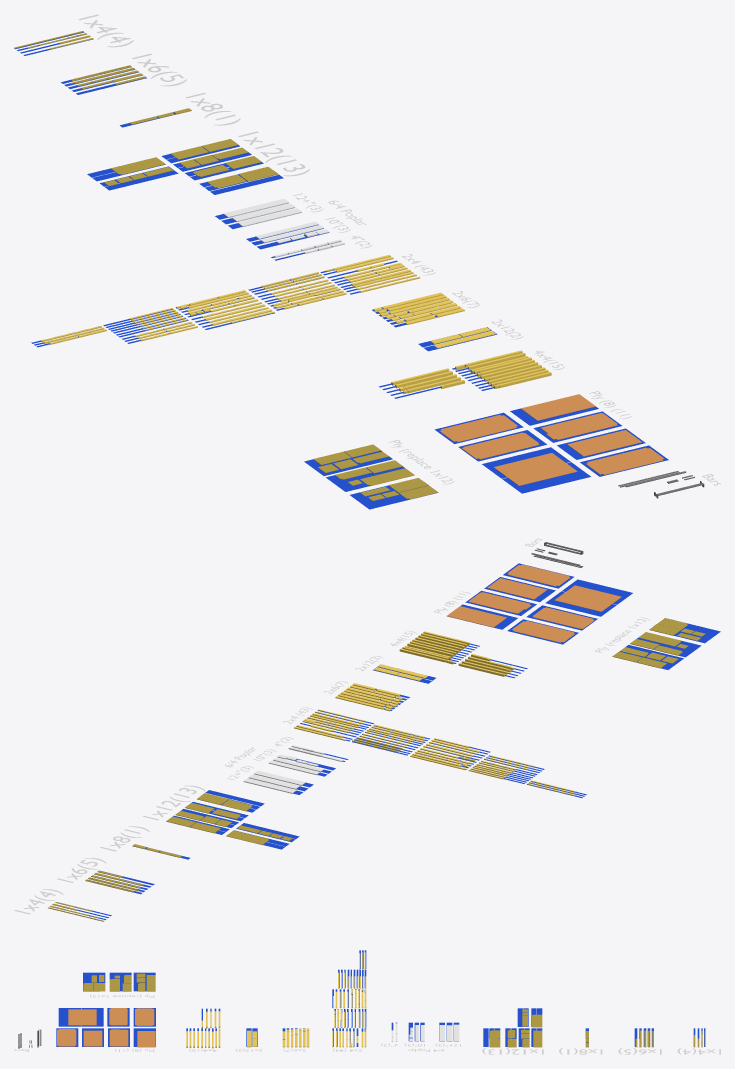
File: bunks-wood.glb
The picture shows the model from 3 angles, top to bottom: view 1: azimuth 30°, elevation 25°; view 2: azimuth 150°, elevation 25°; view 3: azimuth 270°, elevation 25°; orthographic projection. The views are drawn at different scales.
Visible parts, largest first — view 1: queen-platform, twin-bottom-platform, upper-bottom-platform, twin-platform, upper-platform, platform-twin-xl.001, lower-platform; view 2: queen-platform, upper-bottom-platform, twin-bottom-platform, upper-platform, twin-platform, lower-platform, platform-twin-xl.001; view 3: queen-platform, twin-bottom-platform, upper-bottom-platform, upper-platform, twin-platform, lower-platform, platform-twin-xl.001, Plane.092, Plane.091, Plane.108.
Part boxes in pixels (x1,y1,x2,y2): queen-platform: [493, 453, 577, 485]; twin-bottom-platform: [439, 415, 517, 442]; upper-bottom-platform: [586, 447, 664, 474]; twin-platform: [461, 432, 538, 459]; upper-platform: [541, 413, 617, 439]; platform-twin-xl.001: [521, 394, 595, 420]; lower-platform: [567, 430, 641, 456]; queen-platform: [554, 585, 621, 611]; upper-bottom-platform: [507, 564, 570, 586]; twin-bottom-platform: [512, 621, 574, 642]; upper-platform: [468, 592, 531, 613]; twin-platform: [532, 607, 594, 628]; lower-platform: [487, 578, 547, 599]; platform-twin-xl.001: [447, 606, 506, 627]; queen-platform: [68, 1009, 96, 1025]; twin-bottom-platform: [135, 1008, 154, 1025]; upper-bottom-platform: [57, 1029, 76, 1046]; upper-platform: [109, 1029, 128, 1046]; twin-platform: [109, 1008, 127, 1025]; lower-platform: [83, 1030, 102, 1046]; platform-twin-xl.001: [137, 1031, 155, 1047]; Plane.092: [58, 1008, 80, 1026]; Plane.091: [81, 1008, 103, 1026]; Plane.108: [83, 972, 105, 990].
Bounding box in the file's own units: 13.6 × 0.1518 × 38.82.
